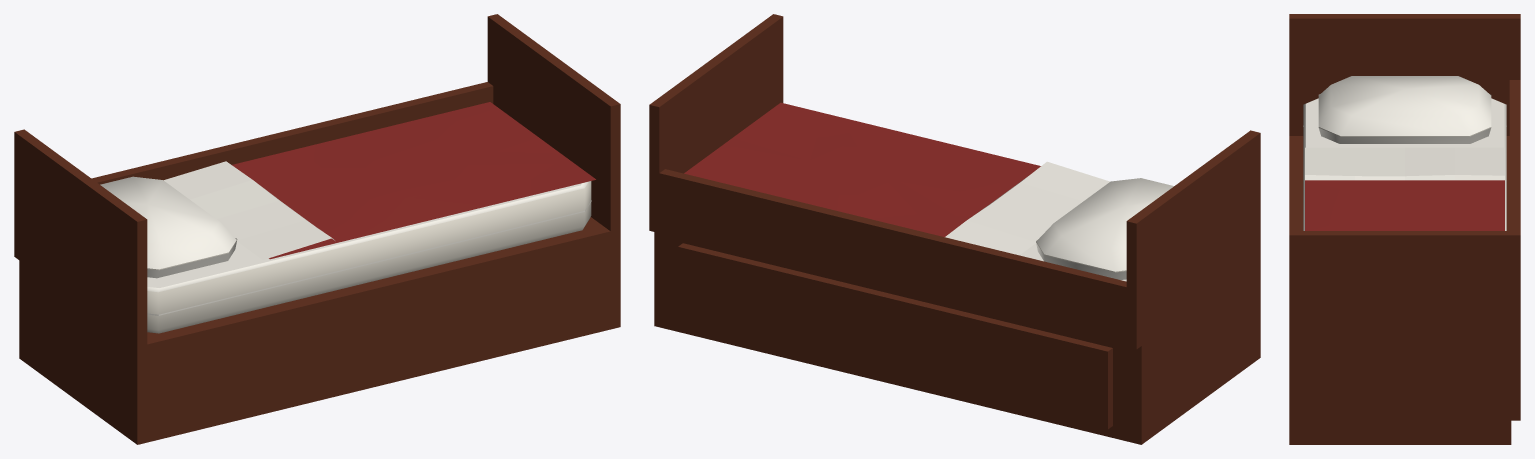
Rendered from parametric-sized-berth-l170-2nd.glb.
3 views of the same model, side by side, from view 1: azimuth 30°, elevation 25°; view 2: azimuth 150°, elevation 25°; view 3: azimuth 270°, elevation 25° (orthographic). The views are drawn at different scales.
Visible parts, largest first — view 1: parametric-sized-berth-l170-2nd; view 2: parametric-sized-berth-l170-2nd; view 3: parametric-sized-berth-l170-2nd.
Boxes of the visible parts, x1=… form: parametric-sized-berth-l170-2nd: x1=14, y1=14, x2=620, y2=444; parametric-sized-berth-l170-2nd: x1=649, y1=14, x2=1260, y2=444; parametric-sized-berth-l170-2nd: x1=1289, y1=14, x2=1520, y2=444.
Size of the model in its own units: 1.7 by 0.75 by 0.75.
